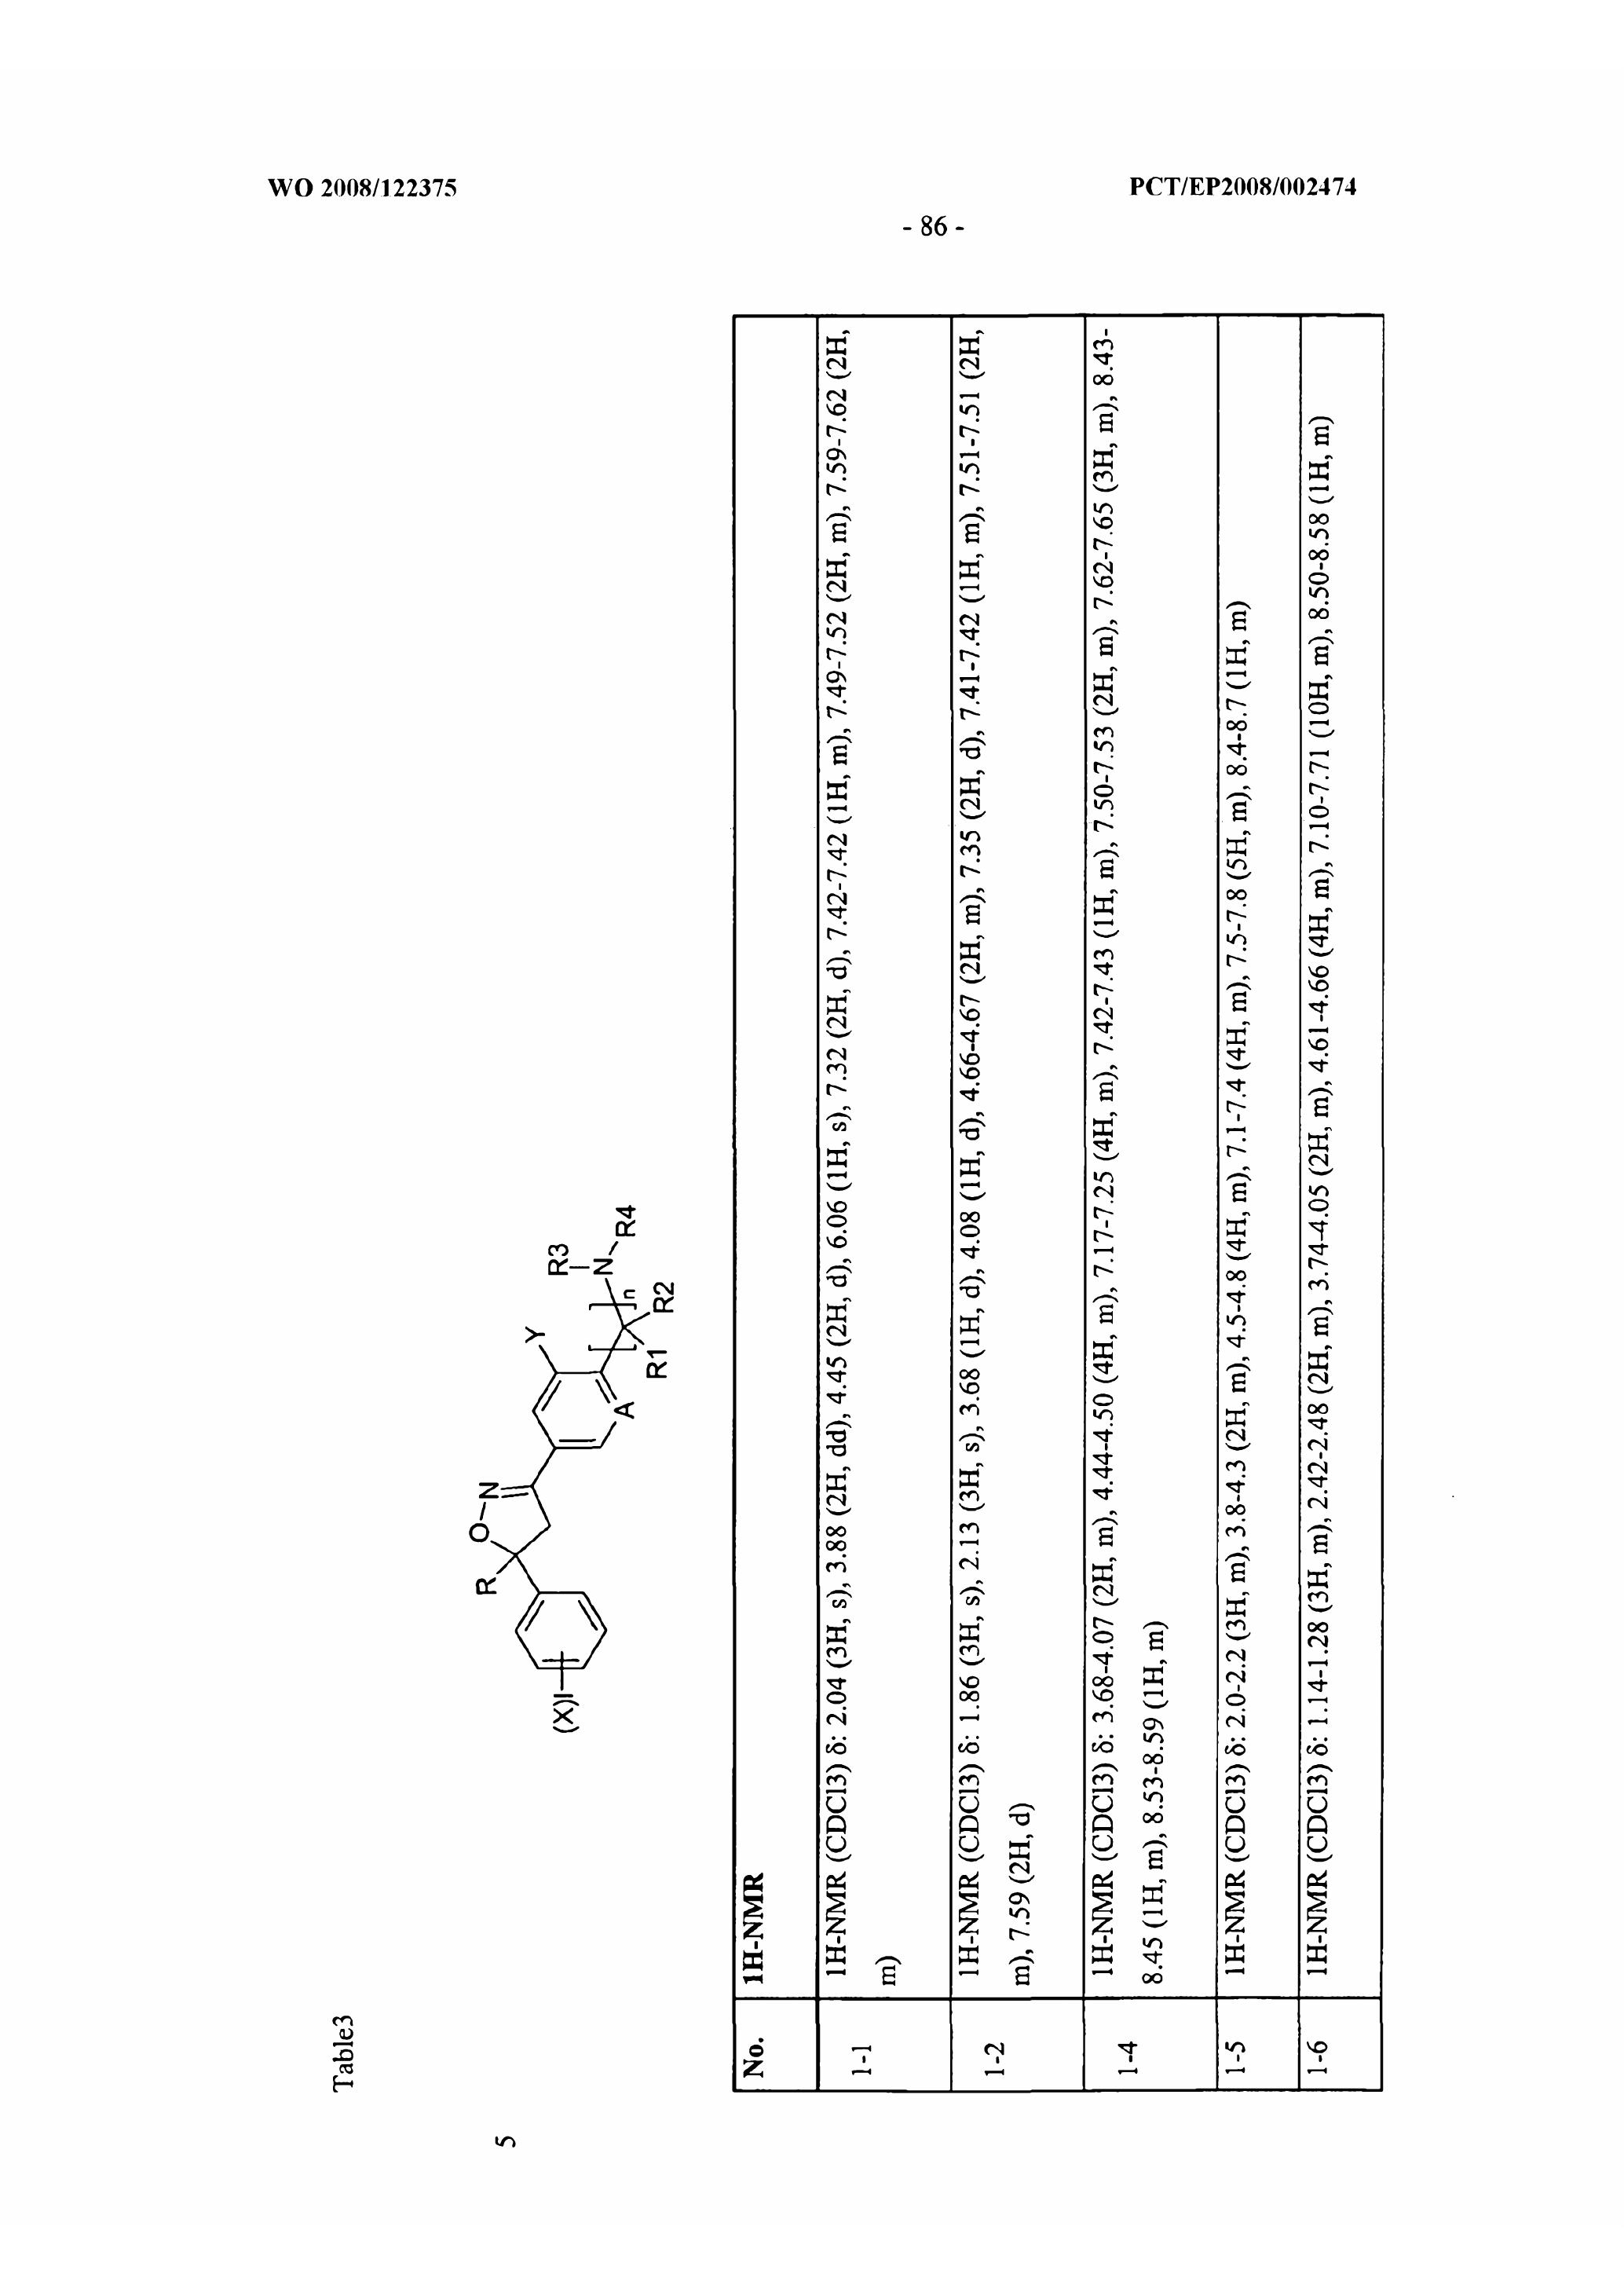markush-structures: (399, 1090, 696, 1786)
